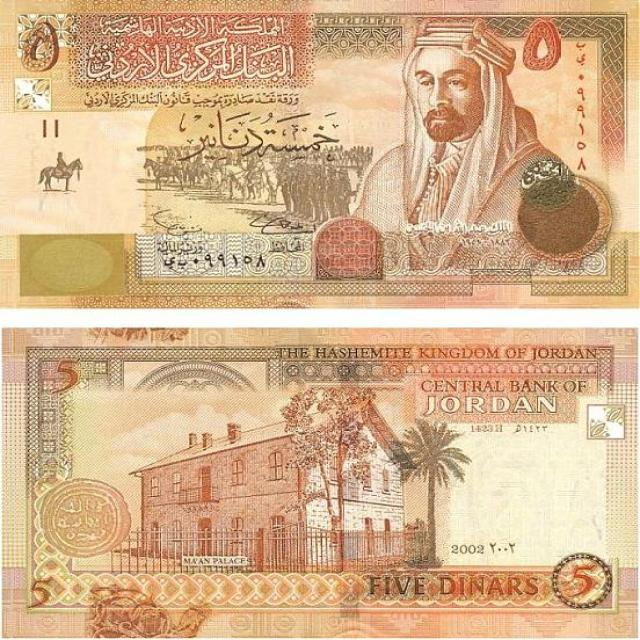5-dinar: (1, 322, 640, 640), (0, 0, 640, 308)
